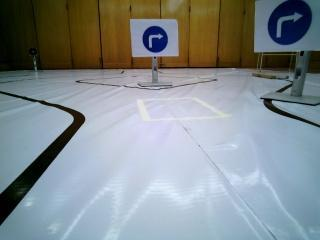right: (254, 0, 314, 49), (130, 19, 174, 53)
